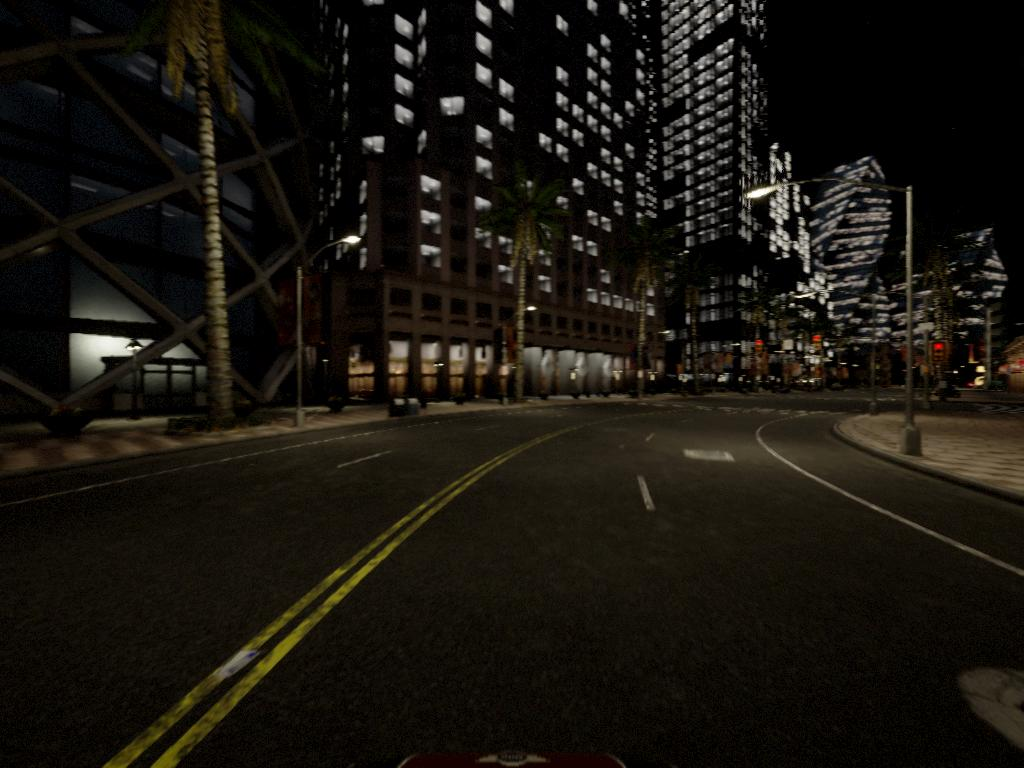traffic_light: (935, 344, 948, 361)
